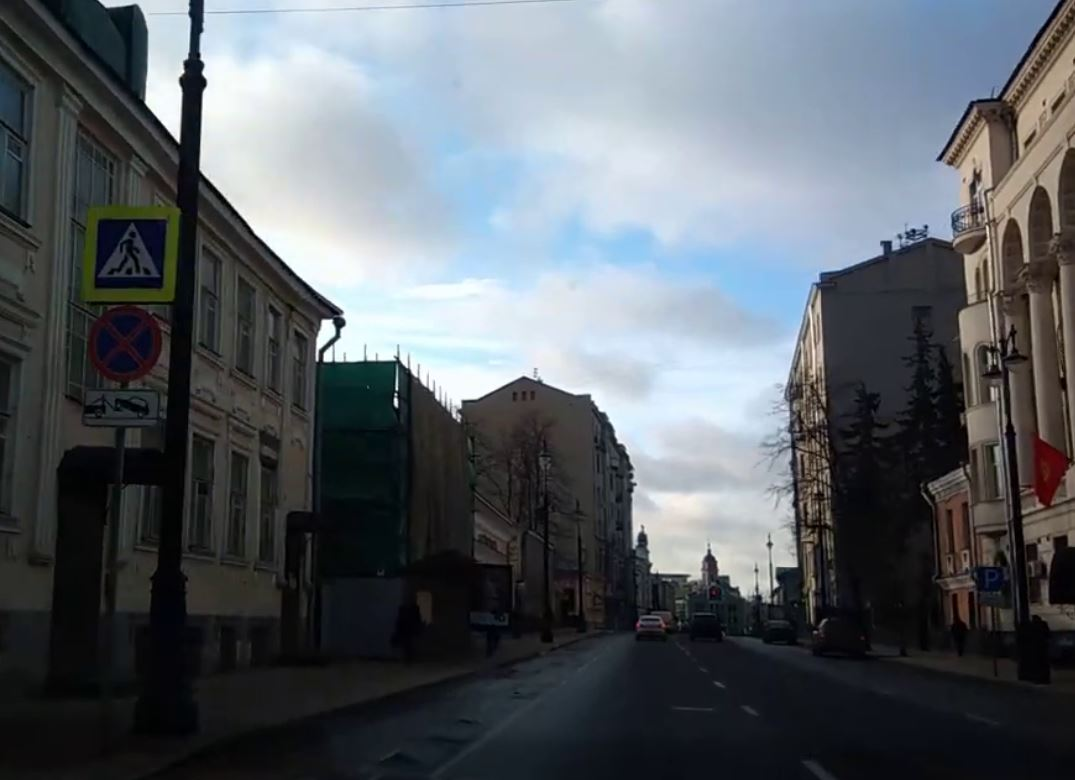Yaya Gecidi: (100, 215, 168, 287)
